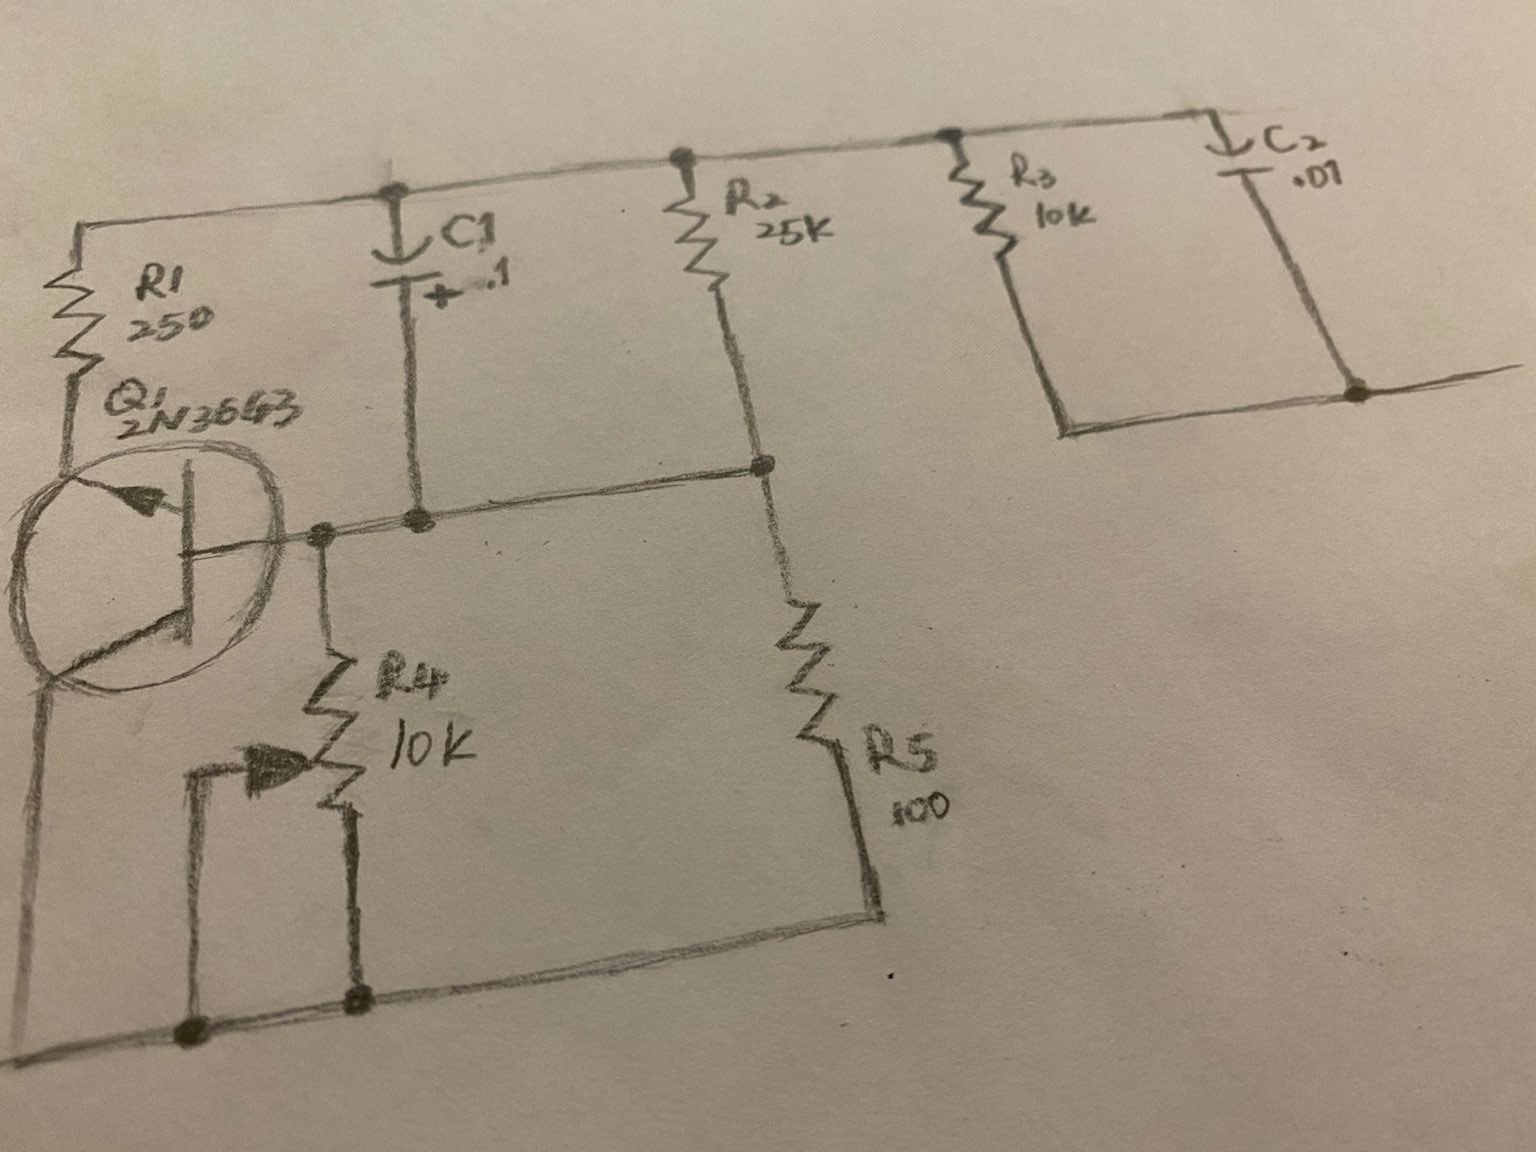capacitor.polarized: (368, 232, 464, 312)
capacitor.unpolarized: (1203, 136, 1266, 180)
junction: (322, 964, 391, 1037), (841, 875, 908, 947), (163, 1000, 229, 1060), (1329, 363, 1384, 421), (1036, 401, 1089, 457), (389, 493, 446, 543), (732, 440, 789, 491), (2, 1021, 50, 1082), (365, 165, 421, 211), (654, 133, 714, 174), (298, 512, 350, 558), (175, 754, 218, 805), (926, 113, 978, 150), (1188, 90, 1229, 127), (62, 211, 106, 243)
resistor: (776, 591, 845, 756), (943, 157, 1014, 263), (42, 261, 103, 381), (662, 189, 728, 293)
resistor.adjustable: (236, 646, 368, 819)
terminal: (1456, 340, 1535, 399)
text: (116, 387, 304, 440), (379, 715, 481, 778), (859, 714, 945, 776), (371, 646, 450, 705), (126, 304, 216, 346), (753, 212, 843, 254), (880, 787, 962, 833), (720, 172, 792, 218), (1032, 191, 1102, 234), (440, 206, 500, 254), (128, 257, 194, 300), (100, 376, 168, 417), (1286, 152, 1353, 192), (1263, 115, 1330, 154), (1007, 145, 1061, 190), (485, 254, 524, 300)
transistor: (10, 438, 289, 699)
